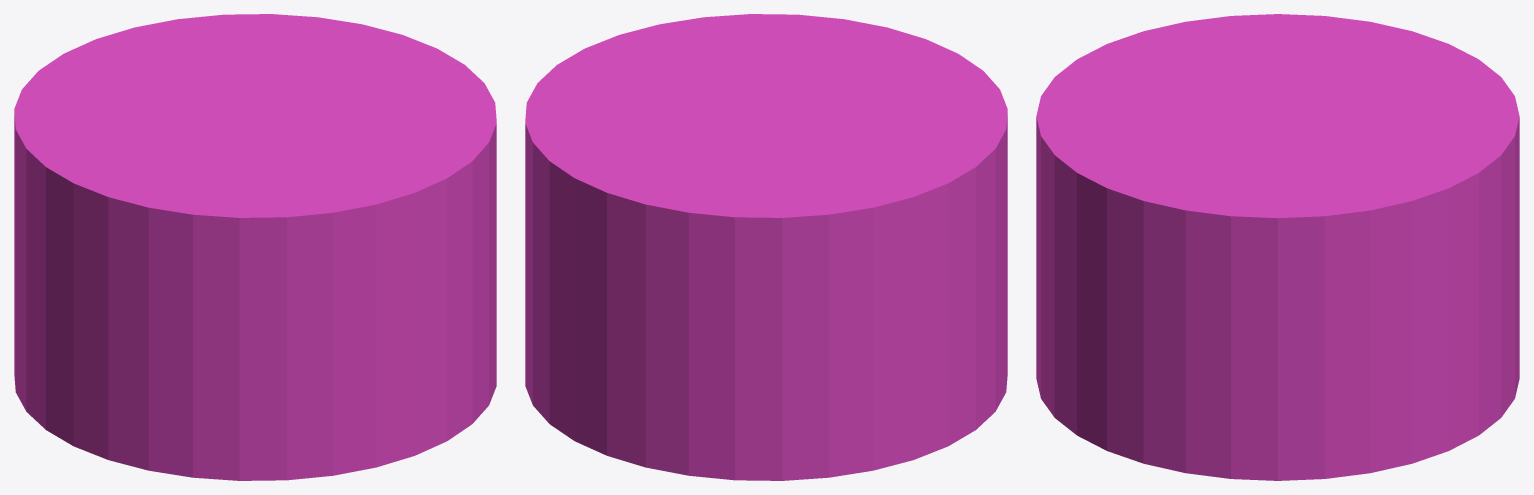
The model's file is cilindrs-test.fbx.
3 renders of one model, left to right at view 1: azimuth 30°, elevation 25°; view 2: azimuth 150°, elevation 25°; view 3: azimuth 270°, elevation 25°, orthographic.
Parts seen in each view (by area): view 1: Cylinder; view 2: Cylinder; view 3: Cylinder.
Boxes of the visible parts, x1=… form: Cylinder: x1=14, y1=14, x2=496, y2=480; Cylinder: x1=525, y1=14, x2=1007, y2=480; Cylinder: x1=1036, y1=14, x2=1519, y2=480.
Bounding box in the file's own units: 400 × 240 × 400.
